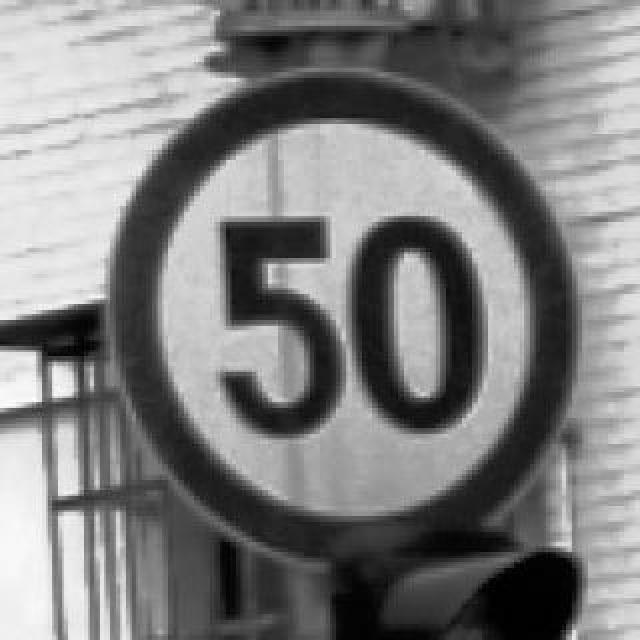50 kph: (100, 62, 572, 568)
